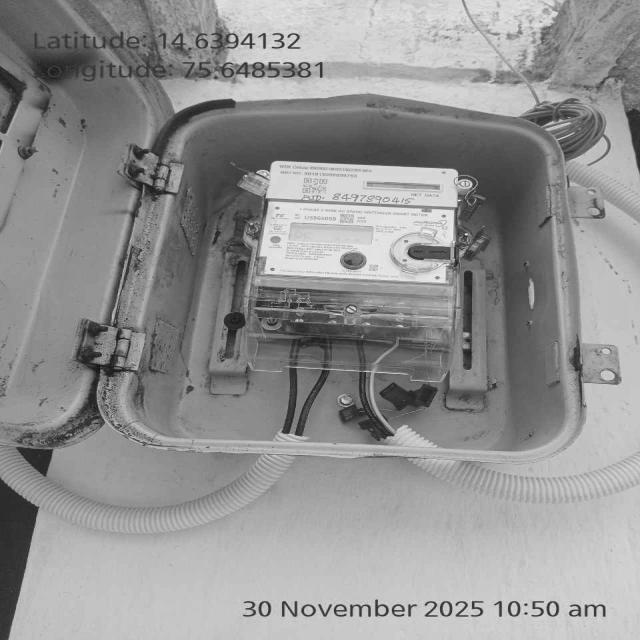meter: (258, 158, 465, 292)
